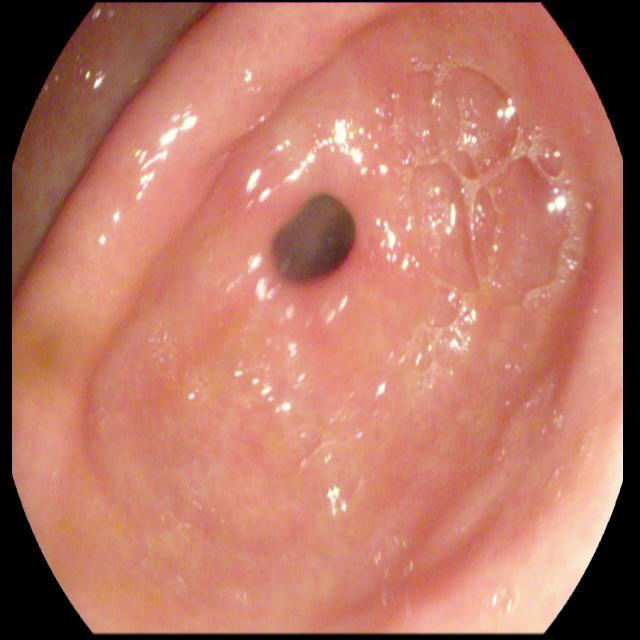normal-pylorus: (179, 33, 480, 529)
